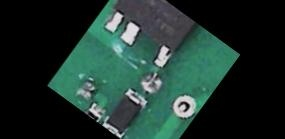chip-resistor: (82, 99, 106, 123)
diode: (98, 82, 152, 139)
ic: (93, 0, 197, 72)
